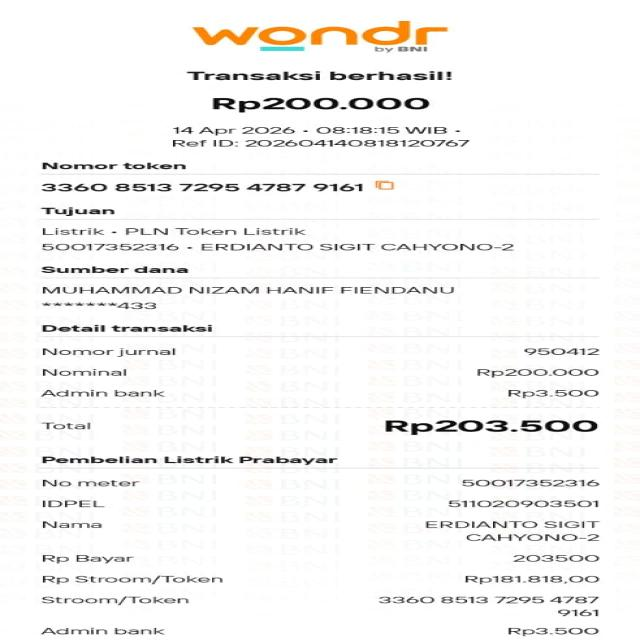date: (167, 123, 475, 138)
store: (172, 21, 491, 58)
total: (31, 418, 626, 438)
